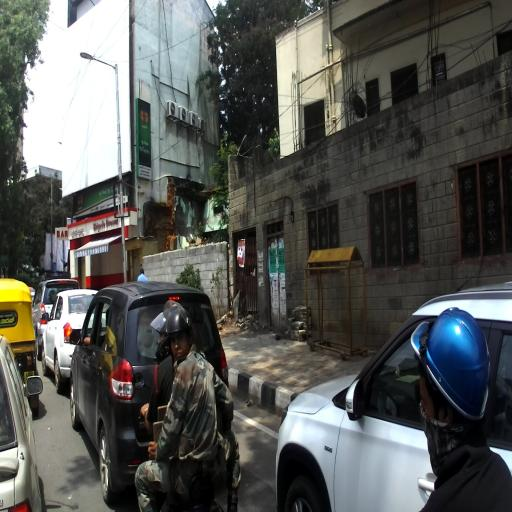street_light_0: (80, 52, 119, 72)
